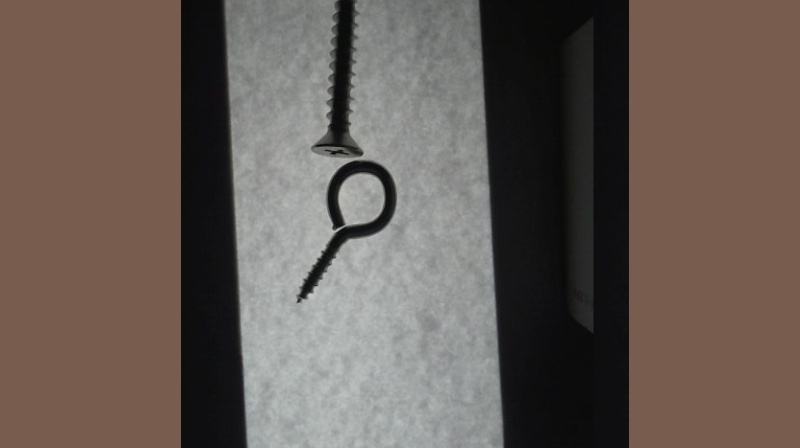O001: (293, 157, 395, 303)
S001: (309, 0, 366, 158)
